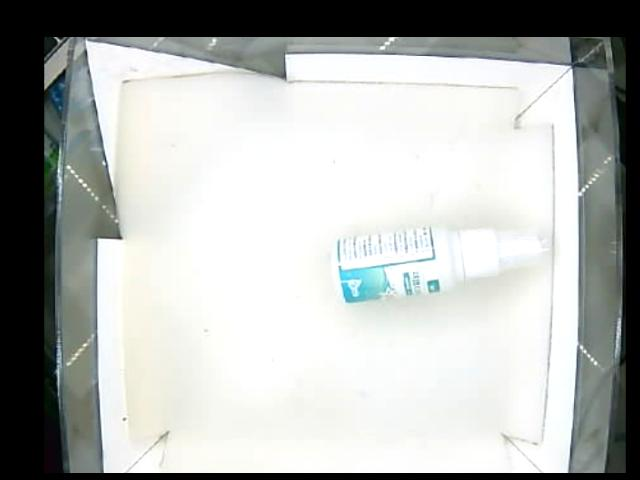Bottle: (335, 226, 545, 304)
